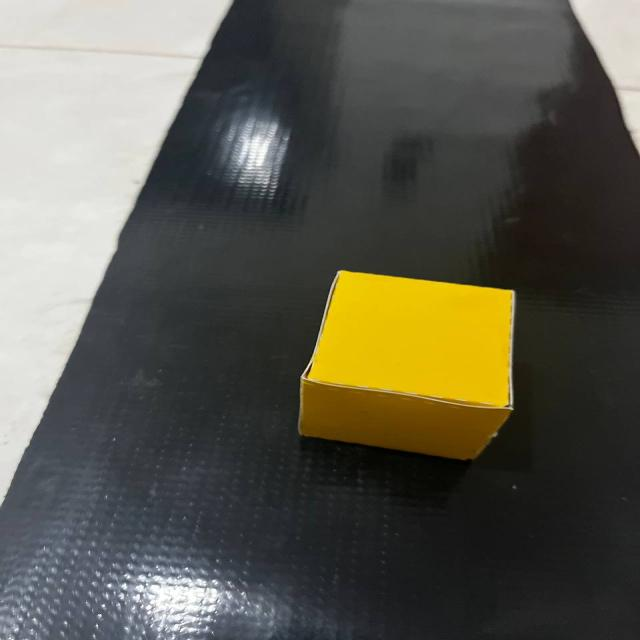Amarillo: (278, 251, 538, 473)
